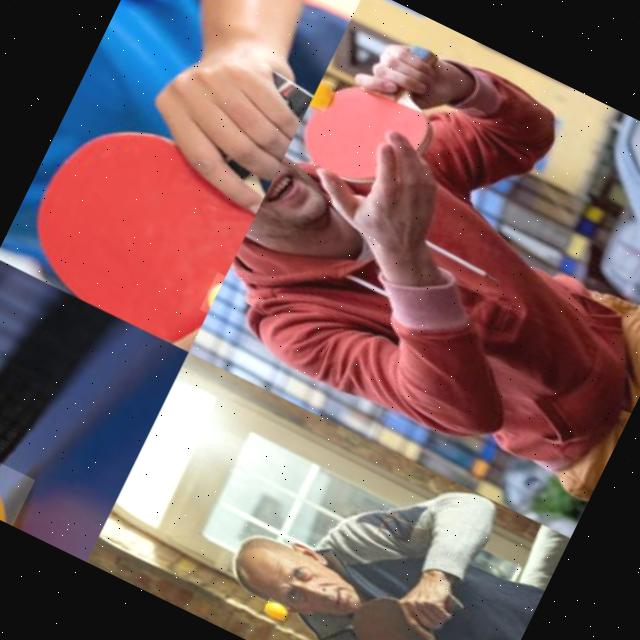ping-pong-ball: (0, 419, 37, 526), (308, 76, 340, 114), (264, 597, 290, 621)
